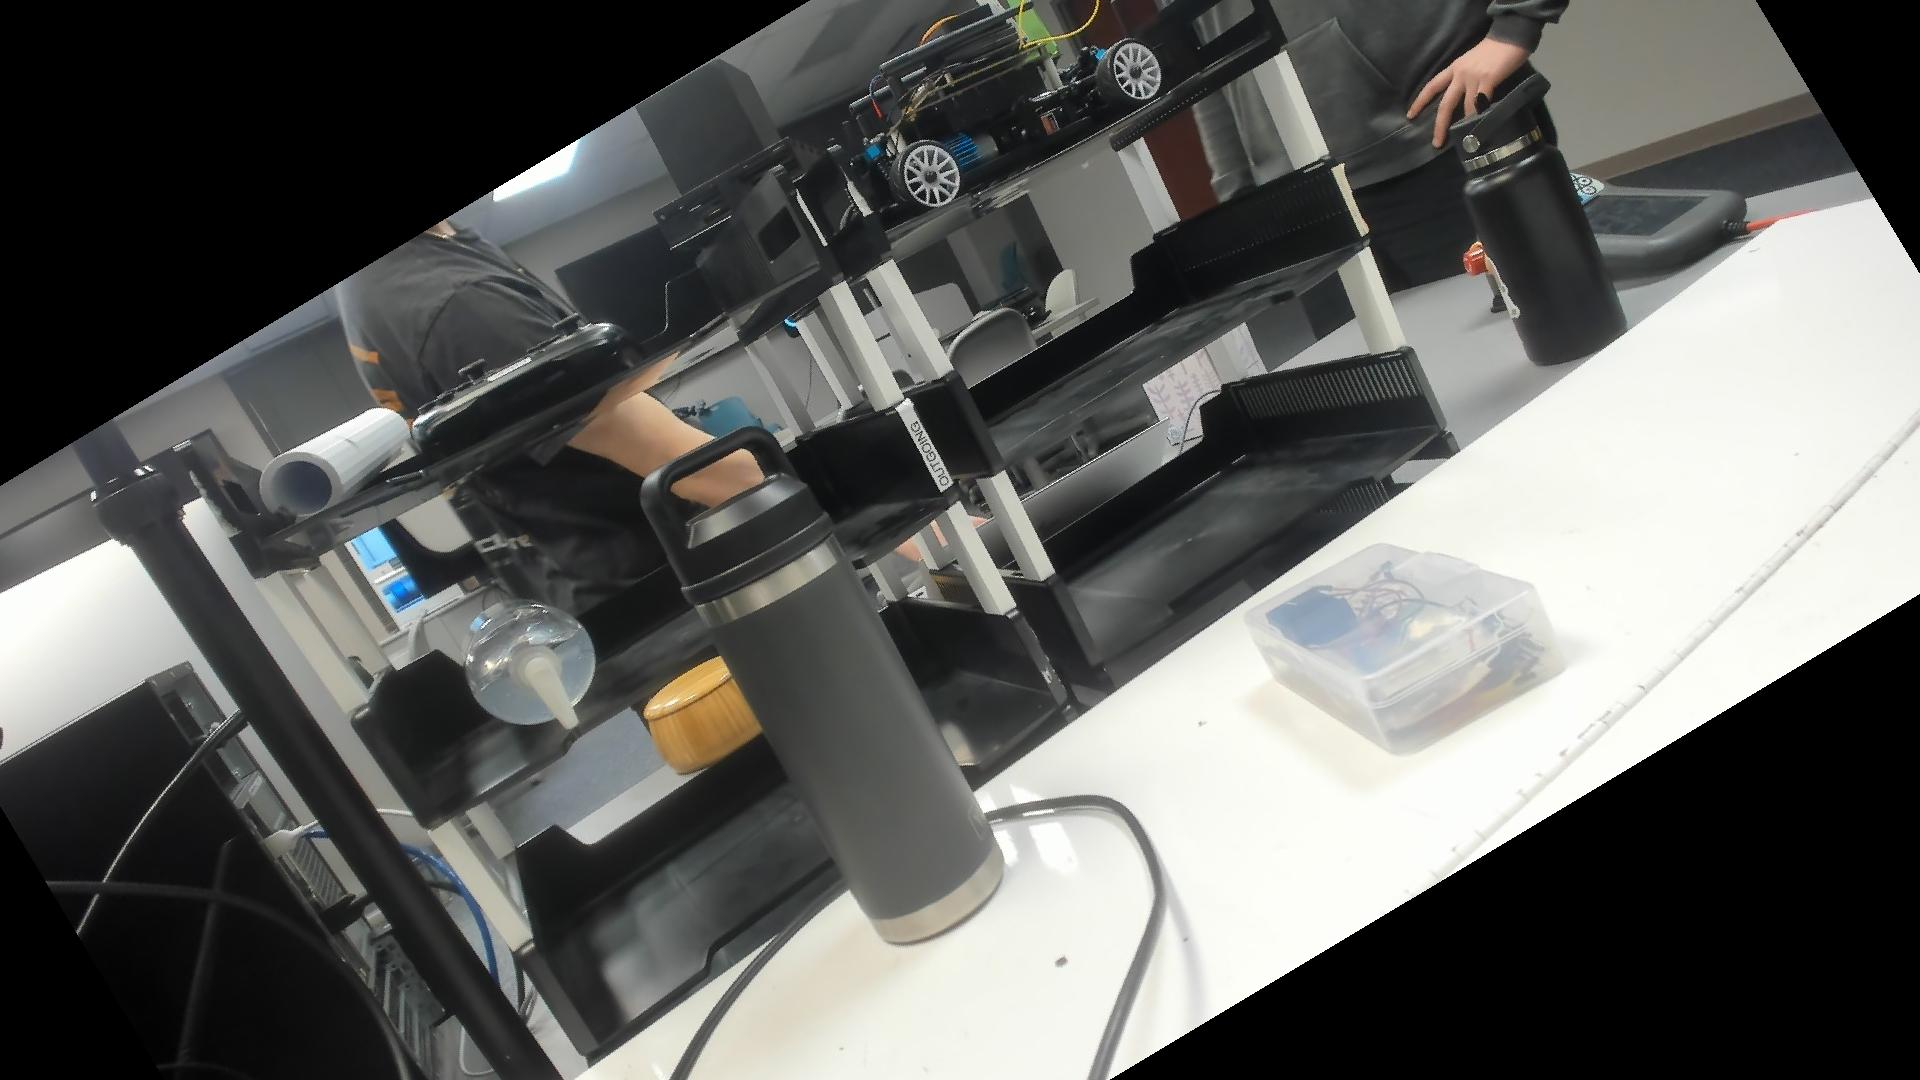black pallet: (634, 53, 831, 262)
